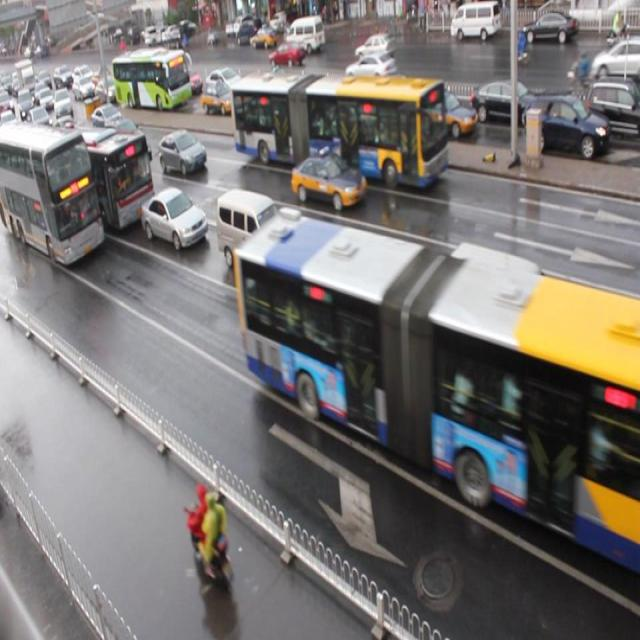car: (300, 229, 403, 321), (524, 93, 610, 161), (291, 151, 368, 212), (140, 188, 208, 252), (582, 77, 640, 141), (411, 88, 476, 140), (472, 81, 540, 130), (608, 330, 640, 432), (361, 72, 418, 113), (160, 132, 207, 178), (294, 84, 339, 130), (106, 120, 150, 161), (22, 160, 62, 204), (254, 74, 296, 114), (202, 82, 238, 116), (205, 69, 243, 98), (92, 104, 124, 132)
truck: (438, 240, 568, 389), (215, 188, 290, 284)
van: (234, 210, 640, 570), (230, 70, 447, 193), (1, 121, 105, 268), (38, 127, 154, 235), (113, 48, 191, 110)
